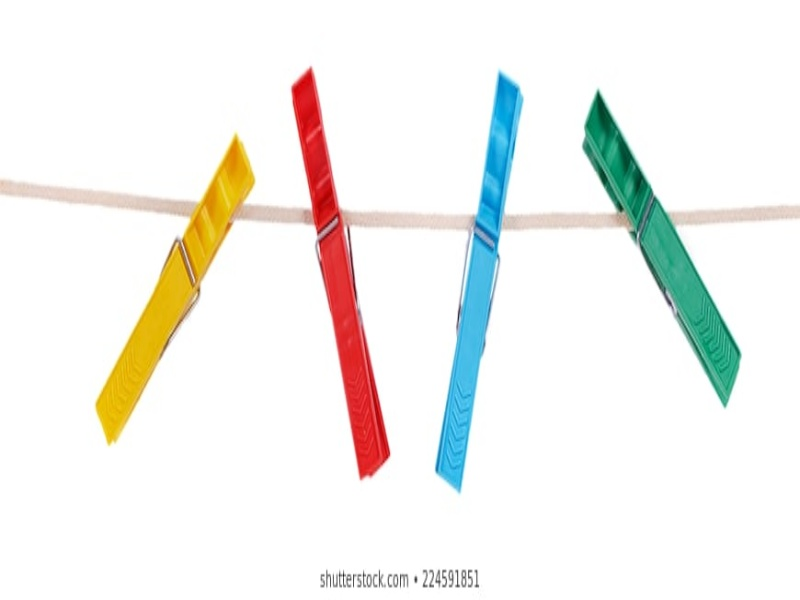plastic-peg: (581, 75, 746, 410), (92, 135, 257, 450), (283, 64, 402, 472), (434, 65, 530, 498)
